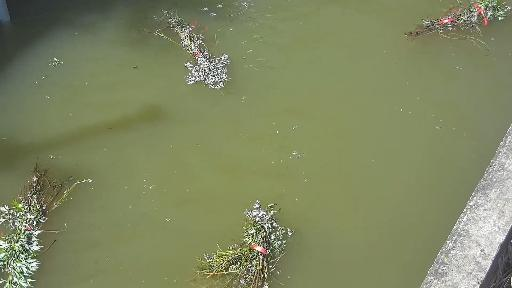twig: (188, 183, 316, 288), (0, 144, 95, 282), (140, 4, 242, 95), (402, 0, 512, 49)
